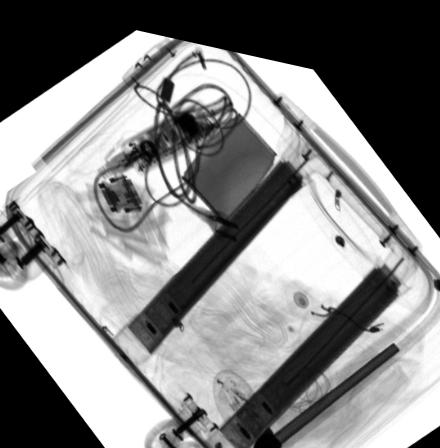Hammer: (251, 323, 400, 448)
